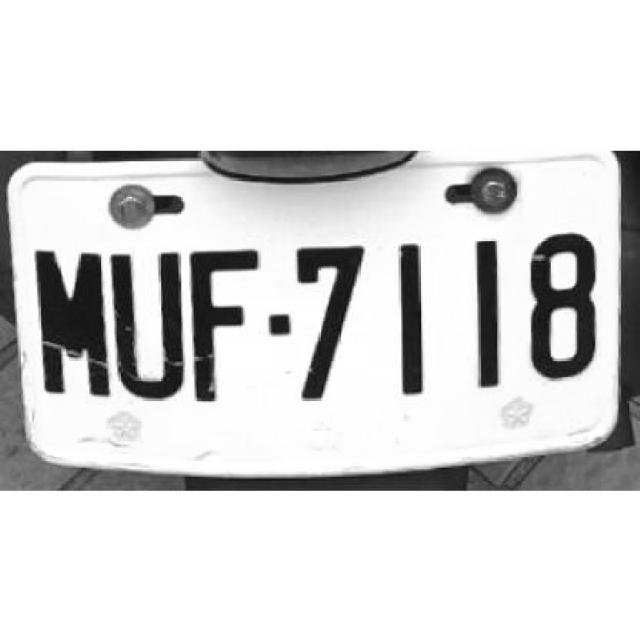-: (266, 307, 291, 338)
1: (394, 241, 428, 397), (476, 235, 504, 392)
7: (291, 242, 366, 402)
8: (531, 232, 597, 385)
F: (188, 248, 260, 404)
M: (31, 249, 111, 402)
U: (110, 251, 184, 400)
